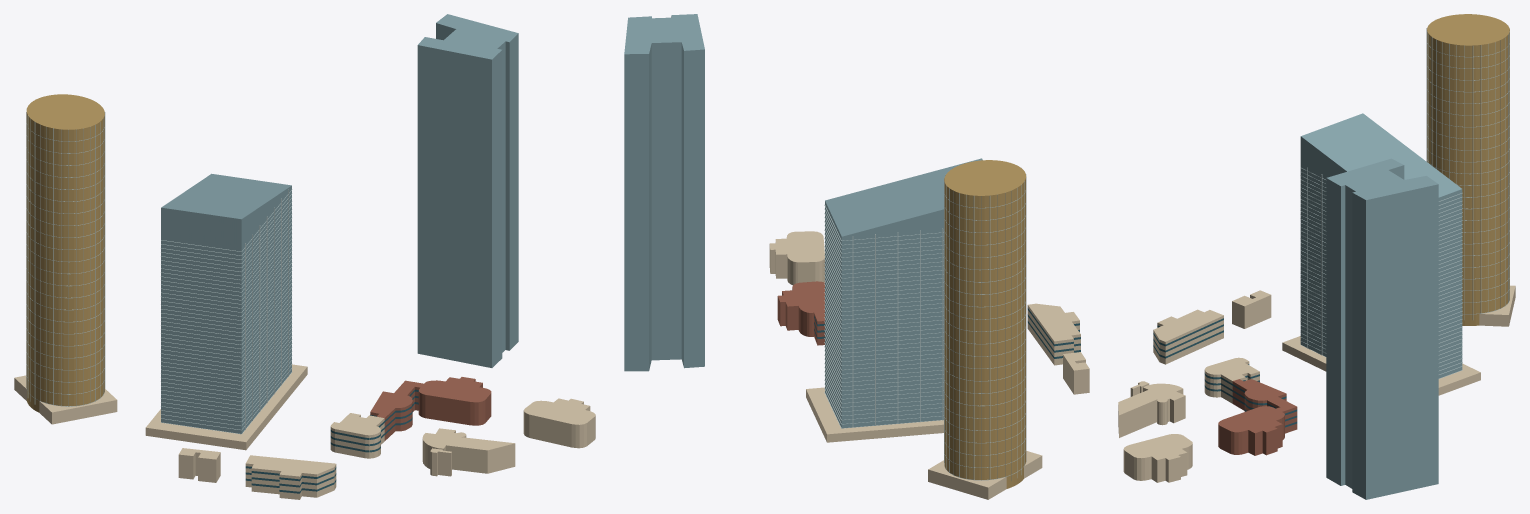
The model's file is city_2_-2.glb.
3 renders of one model, left to right at view 1: azimuth 30°, elevation 25°; view 2: azimuth 150°, elevation 25°; view 3: azimuth 270°, elevation 25°, orthographic. The views are drawn at different scales.
Visible parts, largest first — view 1: city_2_-2; view 2: city_2_-2; view 3: city_2_-2.
Part boxes in pixels (x1,y1,x2,y2): city_2_-2: (14, 14, 595, 499); city_2_-2: (624, 14, 1089, 499); city_2_-2: (1118, 14, 1515, 499).
Size of the model in its own units: 291 by 198 by 237.
